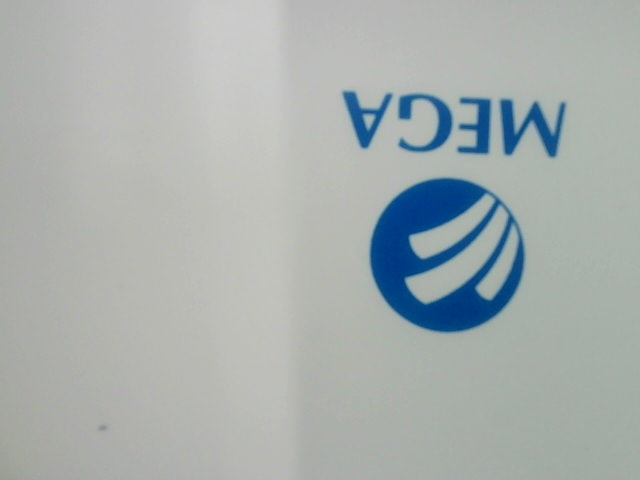AM_ZTEMEGA: (331, 76, 582, 346)
